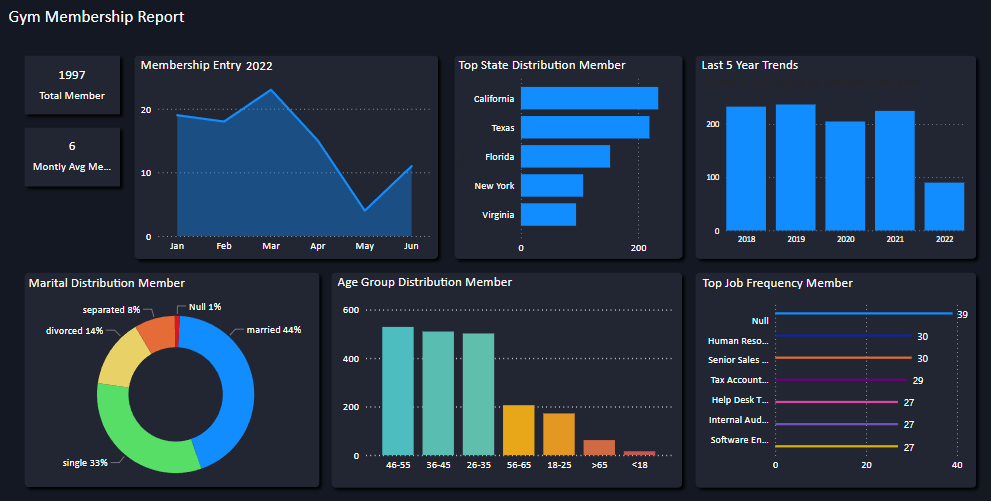

The page's visual inventory and layout, read from the dashboard file:
{"tool":"powerbi","page":{"name":"Membership Report","canvas":[1400,712],"ordinal":0},"visuals":[{"type":"shape","box":[462.2,376.3,508.8,319.1],"z":0},{"type":"textbox","box":[14.1,7.1,281.5,45.3],"z":1000},{"type":"shape","box":[31.6,376.3,430.8,318.4],"z":2000},{"type":"clusteredColumnChart","fields":{"Category":["club_member_info_Clean_FE.age_group"],"Y":["club_member_info_Clean_FE.full_name"]},"box":[480.5,422.5,471,250.4],"z":3000},{"type":"donutChart","fields":{"Category":["club_member_info_Clean_FE.martial_status"],"Y":["club_member_info_Clean_FE.full_name"]},"box":[41.5,398.1,421.4,314.5],"z":4000},{"type":"textbox","box":[42.7,382.8,273.4,36.7],"z":5000},{"type":"shape","box":[31.6,72.3,152,100.9],"z":6000},{"type":"textbox","box":[474.2,382.4,280,34.6],"z":7000},{"type":"shape","box":[186.1,72.3,442.8,302.7],"z":8000},{"type":"areaChart","fields":{"Y":["club_member_info_Clean_FE.full_name"],"Category":["club_member_info_Clean_FE.MonthName"]},"box":[198.6,97.9,415.4,268.6],"z":9000},{"type":"card","fields":{"Values":["club_member_info_Clean_FE.full_name"]},"box":[48.2,84.3,120.4,70.8],"z":10000},{"type":"textbox","box":[198.8,78.9,166.4,35.8],"z":11000},{"type":"shape","box":[31.6,173.1,152,100.9],"z":12000},{"type":"card","fields":{"Values":["club_member_info_Clean_FE.membership_month"]},"box":[48.2,183.7,120.4,70.8],"z":13000},{"type":"shape","box":[971,376.3,411,319.1],"z":14000},{"type":"card","fields":{"Values":["club_member_info_Clean_FE.membership_year"]},"box":[335,73.7,70.6,46],"z":15000},{"type":"shape","box":[633.8,72.3,337.2,302.6],"z":16000},{"type":"textbox","box":[984.2,382.6,280.1,33.9],"z":17000},{"type":"clusteredBarChart","fields":{"Y":["club_member_info_Clean_FE.full_name"],"Category":["club_member_info_Clean_FE.State"]},"box":[640.4,96.1,358.3,271.9],"z":18000},{"type":"clusteredBarChart","fields":{"Category":["club_member_info_Clean_FE.job_title"],"Series":["club_member_info_Clean_FE.job_title"],"Y":["club_member_info_Clean_FE.full_name"]},"box":[980,417,392.9,255.9],"z":19000},{"type":"textbox","box":[644,77.8,279.3,33.1],"z":20000},{"type":"shape","box":[971,72.3,411,302.6],"z":21000},{"type":"textbox","box":[983,78.3,280,33.1],"z":22000},{"type":"clusteredColumnChart","fields":{"Y":["club_member_info_Clean_FE.full_name"],"Category":["club_member_info_Clean_FE.membership_year"]},"box":[989,108.4,371.8,246.9],"z":23000}]}

Visuals, with their boxes in screenshot pixels (x1, y1, x2, y2), scaled from the page's 1400x712 canvas onto the 991x501 screenshot:
shape: [left=327, top=265, right=687, bottom=489]
textbox: [left=10, top=5, right=209, bottom=37]
shape: [left=22, top=265, right=327, bottom=489]
clusteredColumnChart - club_member_info_Clean_FE.age_group x club_member_info_Clean_FE.full_name: [left=340, top=297, right=674, bottom=473]
donutChart - club_member_info_Clean_FE.martial_status x club_member_info_Clean_FE.full_name: [left=29, top=280, right=328, bottom=500]
textbox: [left=30, top=269, right=224, bottom=295]
shape: [left=22, top=51, right=130, bottom=122]
textbox: [left=336, top=269, right=534, bottom=293]
shape: [left=132, top=51, right=445, bottom=264]
areaChart - club_member_info_Clean_FE.full_name x club_member_info_Clean_FE.MonthName: [left=141, top=69, right=435, bottom=258]
card - club_member_info_Clean_FE.full_name: [left=34, top=59, right=119, bottom=109]
textbox: [left=141, top=56, right=259, bottom=81]
shape: [left=22, top=122, right=130, bottom=193]
card - club_member_info_Clean_FE.membership_month: [left=34, top=129, right=119, bottom=179]
shape: [left=687, top=265, right=978, bottom=489]
card - club_member_info_Clean_FE.membership_year: [left=237, top=52, right=287, bottom=84]
shape: [left=449, top=51, right=687, bottom=264]
textbox: [left=697, top=269, right=895, bottom=293]
clusteredBarChart - club_member_info_Clean_FE.full_name x club_member_info_Clean_FE.State: [left=453, top=68, right=707, bottom=259]
clusteredBarChart - club_member_info_Clean_FE.job_title x club_member_info_Clean_FE.job_title: [left=694, top=293, right=972, bottom=473]
textbox: [left=456, top=55, right=654, bottom=78]
shape: [left=687, top=51, right=978, bottom=264]
textbox: [left=696, top=55, right=894, bottom=78]
clusteredColumnChart - club_member_info_Clean_FE.full_name x club_member_info_Clean_FE.membership_year: [left=700, top=76, right=963, bottom=250]
